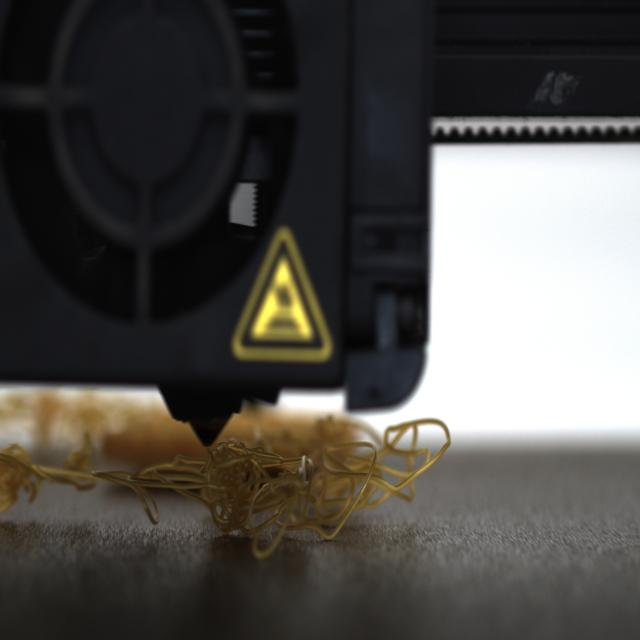Curling_Spagetti: (107, 422, 462, 560)
